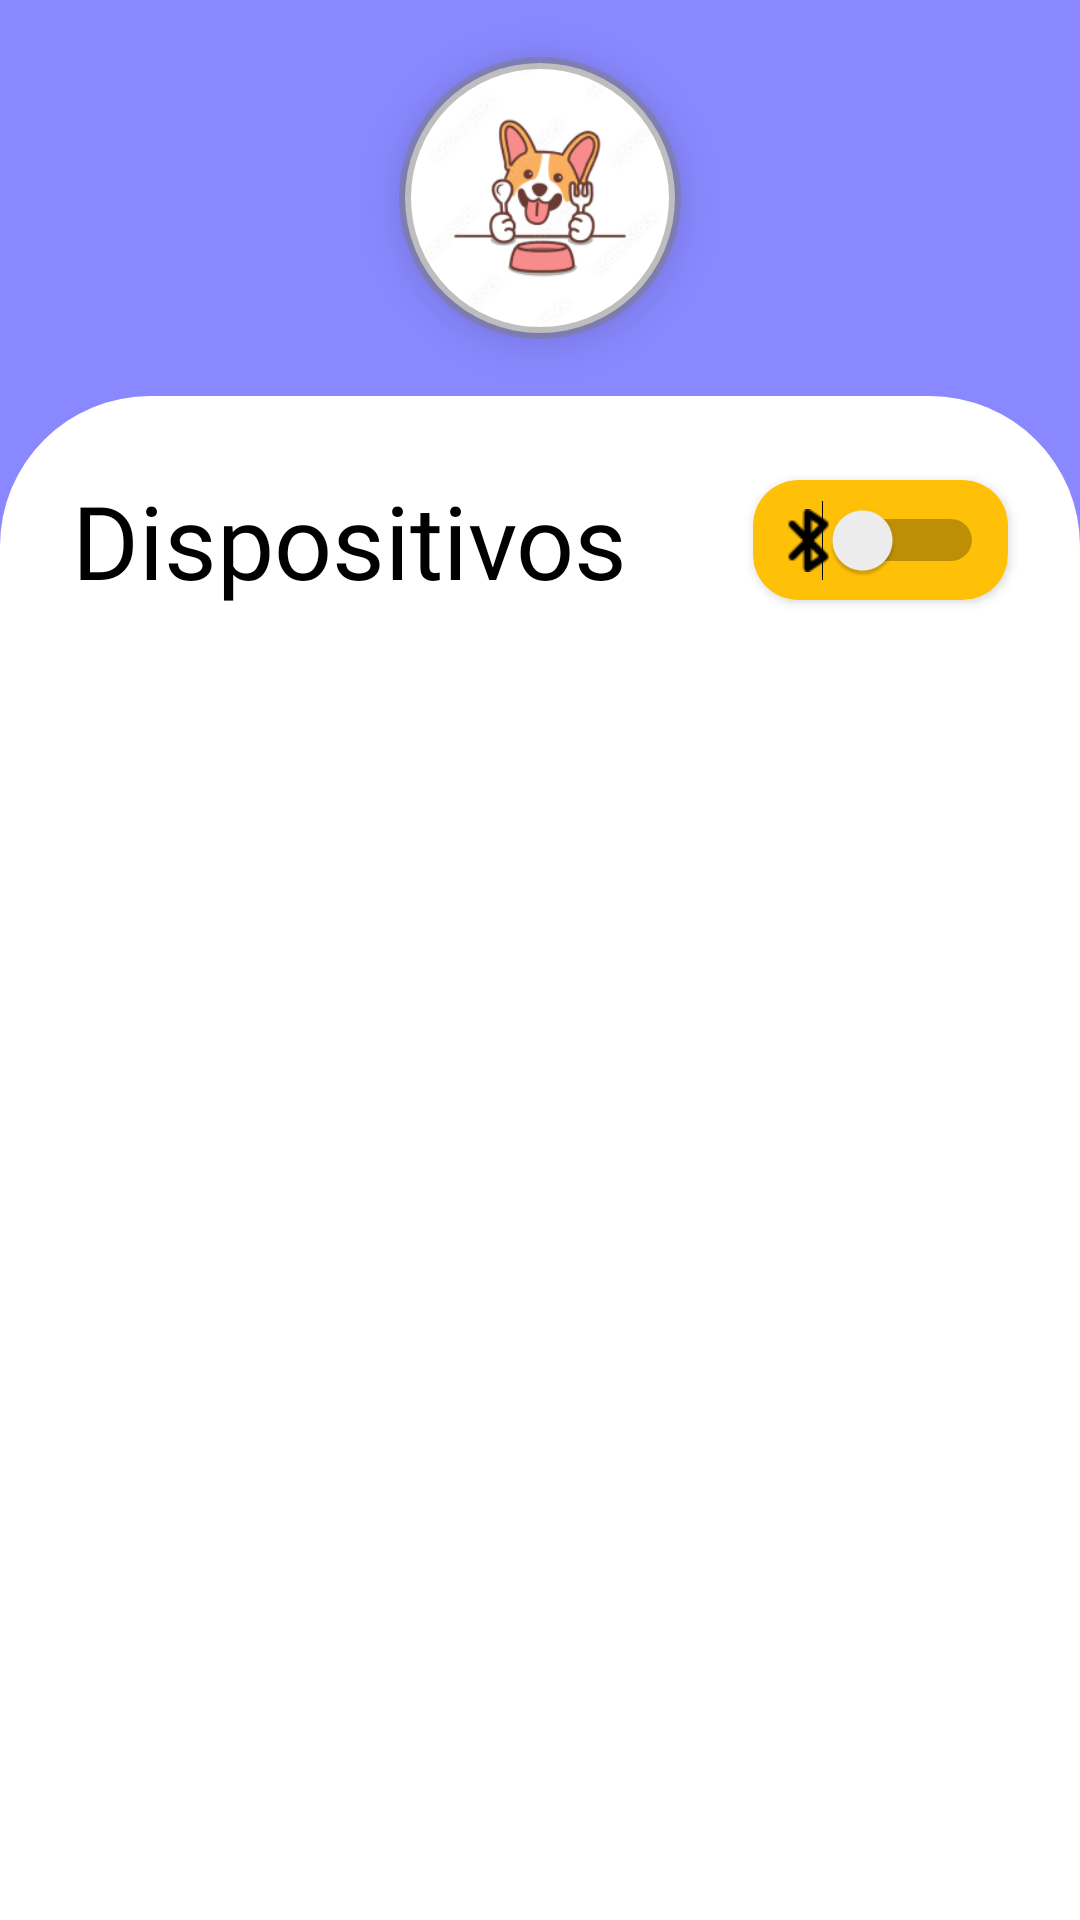

Point at icon controls on the screen. Image size 1080 × 1920, points as (x=x, y=y).
dog: (x=540, y=198)
